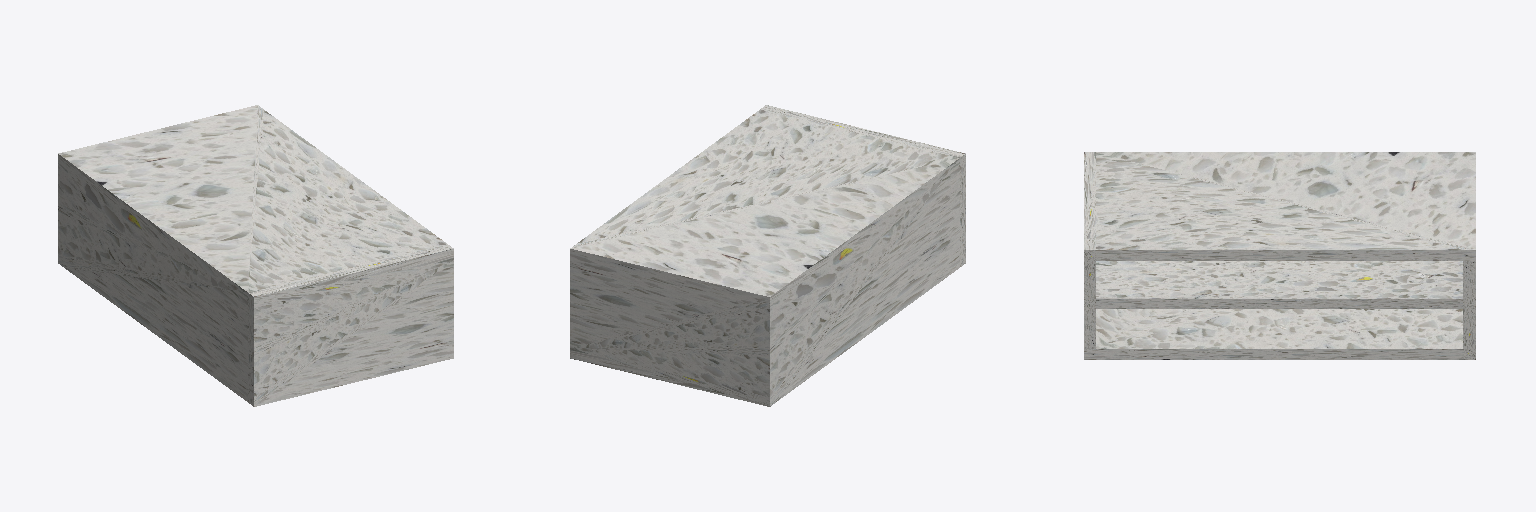
3 views of the same model, side by side, from view 1: azimuth 30°, elevation 25°; view 2: azimuth 150°, elevation 25°; view 3: azimuth 270°, elevation 25° (orthographic).
Visible parts, largest first — view 1: Cube; view 2: Cube; view 3: Cube.
Part boxes in pixels (x1,y1,x2,y2): Cube: (58,105,453,406); Cube: (570,105,965,406); Cube: (1084,152,1475,359).
Size of the model in its own units: 2 by 1.05 by 3.41.
1 materials, 1 textured.